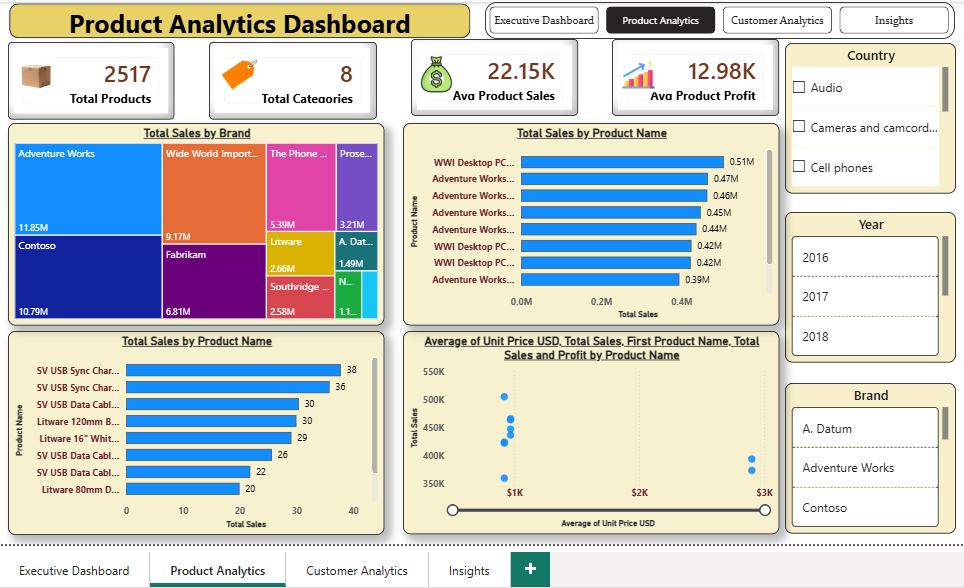

The dashboard page shown, as its layout file describes it:
{"tool":"powerbi","page":{"name":"Product Analytics","canvas":[1280,720],"ordinal":1},"visuals":[{"type":"shape","box":[10.2,0,616,49.8],"z":0},{"type":"cardVisual","fields":{"Data":["Measures (2).Avg Product Profit"]},"box":[813.4,49.3,222,102],"z":0,"group":"g4"},{"type":"cardVisual","fields":{"Data":["Measures (2).Avg Product Sales"]},"box":[545.7,49.8,222,102],"z":0,"group":"g1"},{"type":"cardVisual","fields":{"Data":["Calendar.Total Products"]},"box":[10.2,52.7,221.3,103],"z":0,"group":"g3"},{"type":"cardVisual","fields":{"Data":["Calendar.Total Categories"]},"box":[278,52.7,222.8,103],"z":0,"group":"g2"},{"type":"listSlicer","title":"Country","fields":{"Values":["Products.Category"]},"box":[1043.4,54.1,226.8,200.5],"z":1000},{"type":"advancedSlicerVisual","title":"Year","fields":{"Values":["Calendar.year"]},"box":[1043.4,279.5,226.8,200.5],"z":2000},{"type":"advancedSlicerVisual","title":"Brand","fields":{"Values":["Products.Brand"]},"box":[1043.4,506.3,226.8,200.5],"z":3000},{"type":"group","id":"g1","title":"Group 2","box":[545.7,49.8,222.4,101],"z":4000},{"type":"group","id":"g2","title":"Group 1","box":[278,52.7,222.4,102.4],"z":5000},{"type":"group","id":"g3","title":"Group 3","box":[10.2,52.7,222.4,102.4],"z":6000},{"type":"group","id":"g4","title":"Group 2","box":[813.4,49.3,222.4,101.5],"z":7000},{"type":"treemap","fields":{"Values":["Measures (2).Total Sales"],"Group":["Products.Brand"]},"box":[10.2,161,500.5,269.3],"z":8000},{"type":"clusteredBarChart","fields":{"Y":["Measures (2).Total Sales"],"Category":["Products.Product Name"]},"box":[535.8,161.2,500,268.7],"z":9000},{"type":"barChart","fields":{"Category":["Products.Product Name"],"Y":["Measures (2).Total Sales"]},"box":[10.2,437.6,500.5,270.7],"z":10000},{"type":"scatterChart","fields":{"Category":["Products.Product Name"],"X":["Products.Unit Price USD"],"Y":["Measures (2).Total Sales"]},"box":[535.8,437.3,500,270.1],"z":11000},{"type":"pageNavigator","box":[644.6,0,624.3,48.6],"z":11001},{"type":"image","box":[555.4,64.9,48.6,62.2],"z":11002},{"type":"image","box":[823,64.9,48.6,62.2],"z":11003},{"type":"image","box":[23.8,66.3,49.2,62.7],"z":11004,"group":"g3"},{"type":"image","box":[294.6,64.6,47.6,63.1],"z":11005,"group":"g2"}]}

Visuals, with their boxes on the page's 1280x720 design canvas (x1, y1, x2, y2). These are canvas units, not pixel positions in the 964x588 screenshot, which may show the page scaled, cropped or inside an application window:
shape: [x1=10, y1=0, x2=626, y2=50]
cardVisual - Measures (2).Avg Product Profit: [x1=813, y1=49, x2=1035, y2=151]
cardVisual - Measures (2).Avg Product Sales: [x1=546, y1=50, x2=768, y2=152]
cardVisual - Calendar.Total Products: [x1=10, y1=53, x2=232, y2=156]
cardVisual - Calendar.Total Categories: [x1=278, y1=53, x2=501, y2=156]
"Country" listSlicer: [x1=1043, y1=54, x2=1270, y2=255]
"Year" advancedSlicerVisual: [x1=1043, y1=280, x2=1270, y2=480]
"Brand" advancedSlicerVisual: [x1=1043, y1=506, x2=1270, y2=707]
"Group 2" group: [x1=546, y1=50, x2=768, y2=151]
"Group 1" group: [x1=278, y1=53, x2=500, y2=155]
"Group 3" group: [x1=10, y1=53, x2=233, y2=155]
"Group 2" group: [x1=813, y1=49, x2=1036, y2=151]
treemap - Measures (2).Total Sales x Products.Brand: [x1=10, y1=161, x2=511, y2=430]
clusteredBarChart - Measures (2).Total Sales x Products.Product Name: [x1=536, y1=161, x2=1036, y2=430]
barChart - Products.Product Name x Measures (2).Total Sales: [x1=10, y1=438, x2=511, y2=708]
scatterChart - Products.Product Name x Products.Unit Price USD: [x1=536, y1=437, x2=1036, y2=707]
pageNavigator: [x1=645, y1=0, x2=1269, y2=49]
image: [x1=555, y1=65, x2=604, y2=127]
image: [x1=823, y1=65, x2=872, y2=127]
image: [x1=24, y1=66, x2=73, y2=129]
image: [x1=295, y1=65, x2=342, y2=128]
